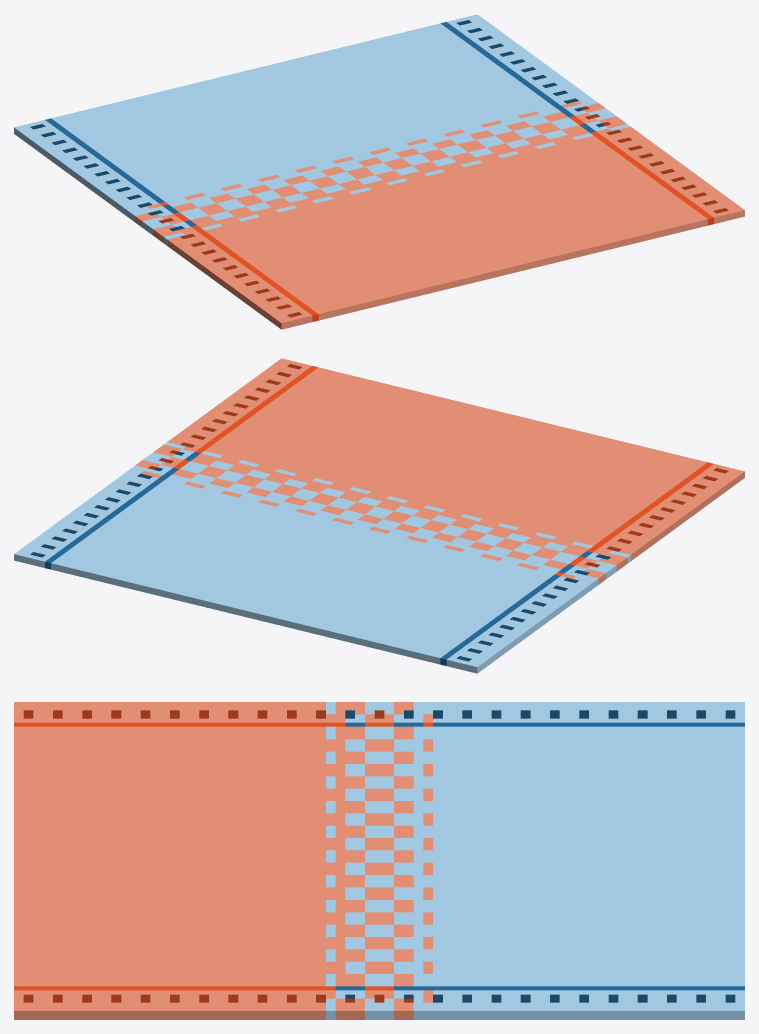
The model's file is ice-lava-0.obj.
The picture shows the model from 3 angles, top to bottom: view 1: azimuth 30°, elevation 25°; view 2: azimuth 150°, elevation 25°; view 3: azimuth 270°, elevation 25°; orthographic projection. The views are drawn at different scales.
Parts seen in each view (by area): view 1: ice-lava-0; view 2: ice-lava-0; view 3: ice-lava-0.
Boxes of the visible parts, box(x1,y1,x2,y2) form: ice-lava-0: box(14, 14, 744, 329); ice-lava-0: box(14, 358, 744, 673); ice-lava-0: box(14, 702, 744, 1019).
Size of the model in its own units: 75 by 1 by 75.
1 material, 1 textured.
